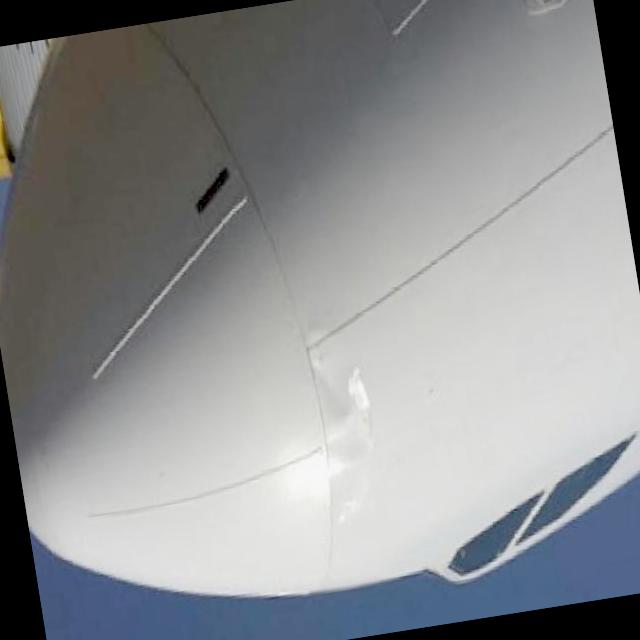dent: (291, 314, 385, 524)
